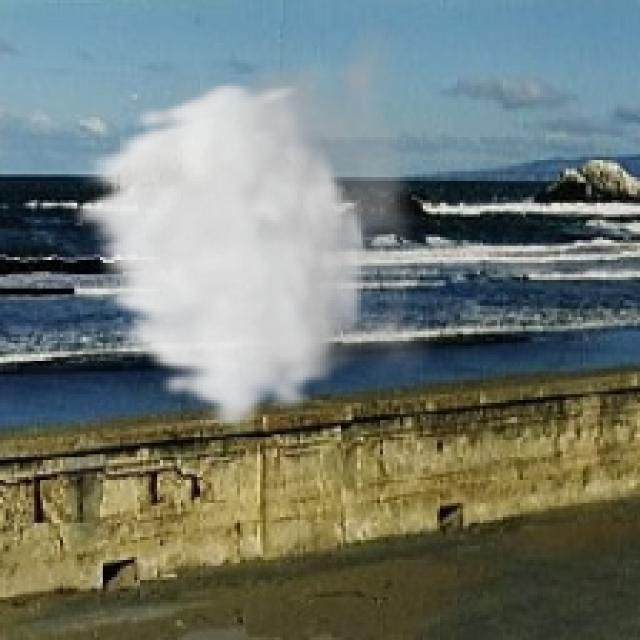Smoke: (66, 6, 440, 432)
